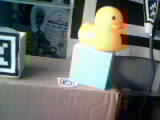duck: (79, 4, 143, 59)
